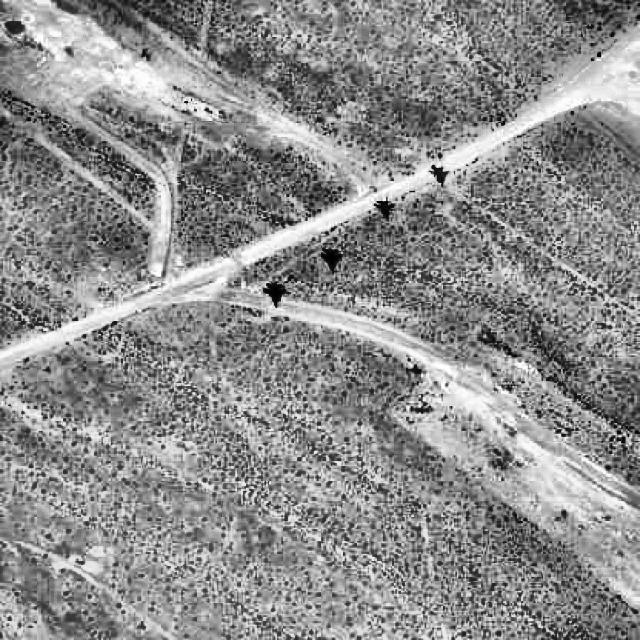F15: (372, 193, 397, 222), (427, 160, 451, 188)
